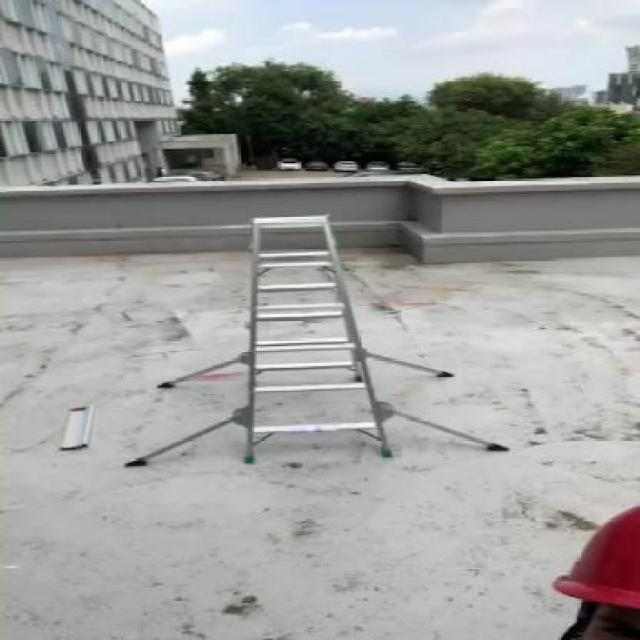boots: (123, 210, 519, 474)
